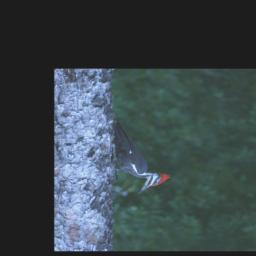Woodpecker: (110, 117, 170, 196)
